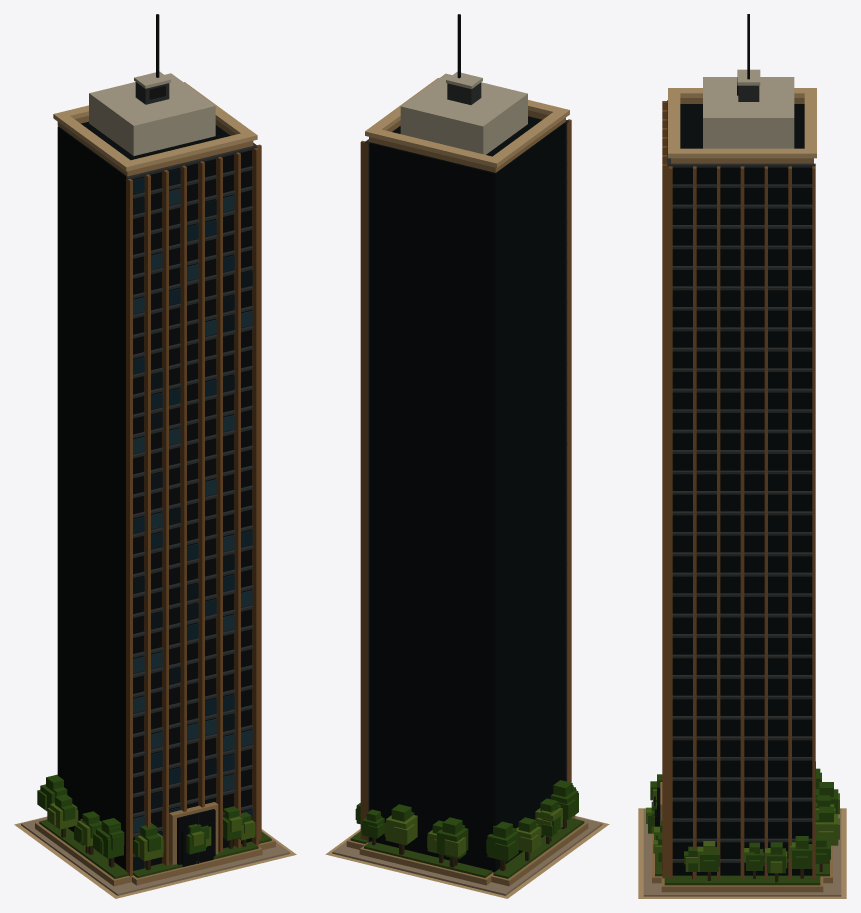
File: SM_Mapa_008.fbx
3 views of the same model, side by side, from view 1: azimuth 30°, elevation 25°; view 2: azimuth 150°, elevation 25°; view 3: azimuth 270°, elevation 25° (orthographic). The views are drawn at different scales.
Parts seen in each view (by area): view 1: SM_Mapa_008; view 2: SM_Mapa_008; view 3: SM_Mapa_008.
Boxes of the visible parts, x1,y1,x2,y2 form: SM_Mapa_008: (14,14,296,898); SM_Mapa_008: (325,14,609,898); SM_Mapa_008: (638,14,846,898).
Size of the model in its own units: 14 by 13.59 by 60.61.
